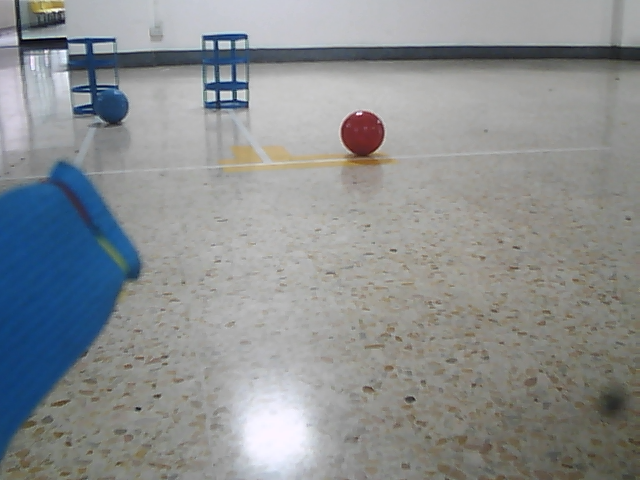Blue ball: (94, 89, 130, 125)
Cyro: (199, 31, 251, 111), (64, 36, 117, 114)
Red ball: (339, 110, 386, 156)
